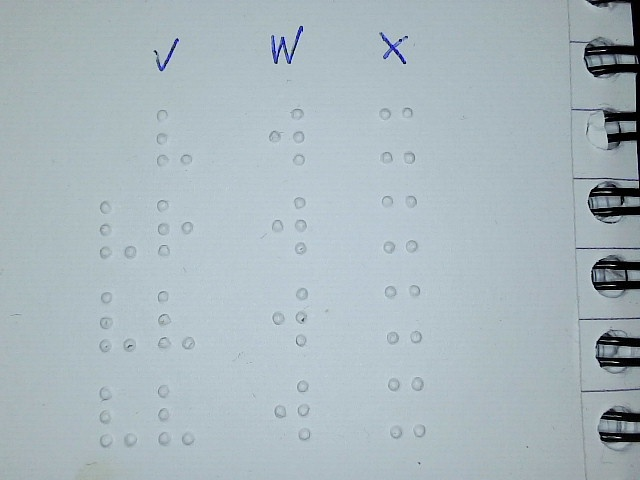V: (156, 383, 196, 446), (98, 384, 138, 447), (98, 198, 138, 260), (155, 107, 194, 168)
W: (272, 378, 312, 441), (267, 106, 306, 167), (270, 194, 309, 255), (271, 286, 310, 347)
X: (387, 374, 426, 439), (377, 104, 416, 165), (381, 193, 420, 254), (384, 283, 423, 344)
